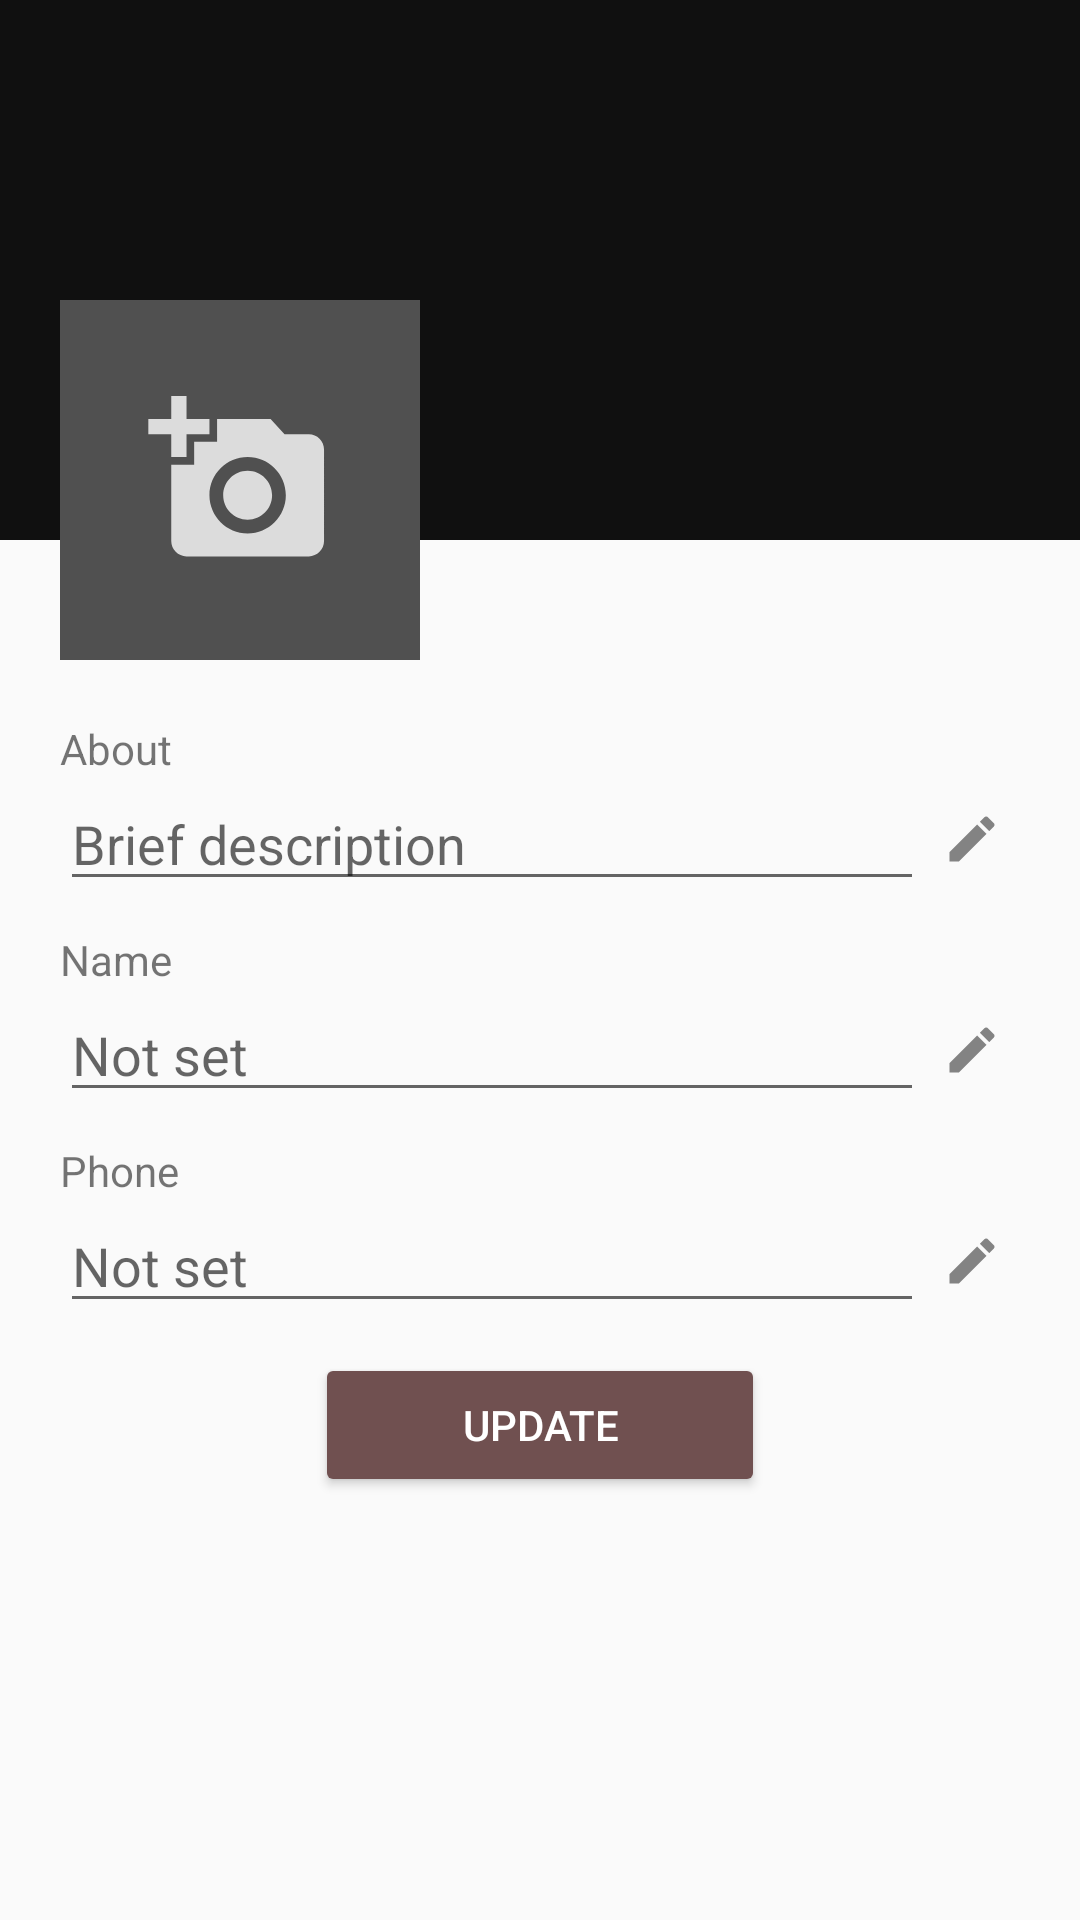

Icons on this 1080w x 1920h Android screen, each with the point to tap as (x=x, y=y):
edit: (x=972, y=839), (x=972, y=1050), (x=972, y=1261)
